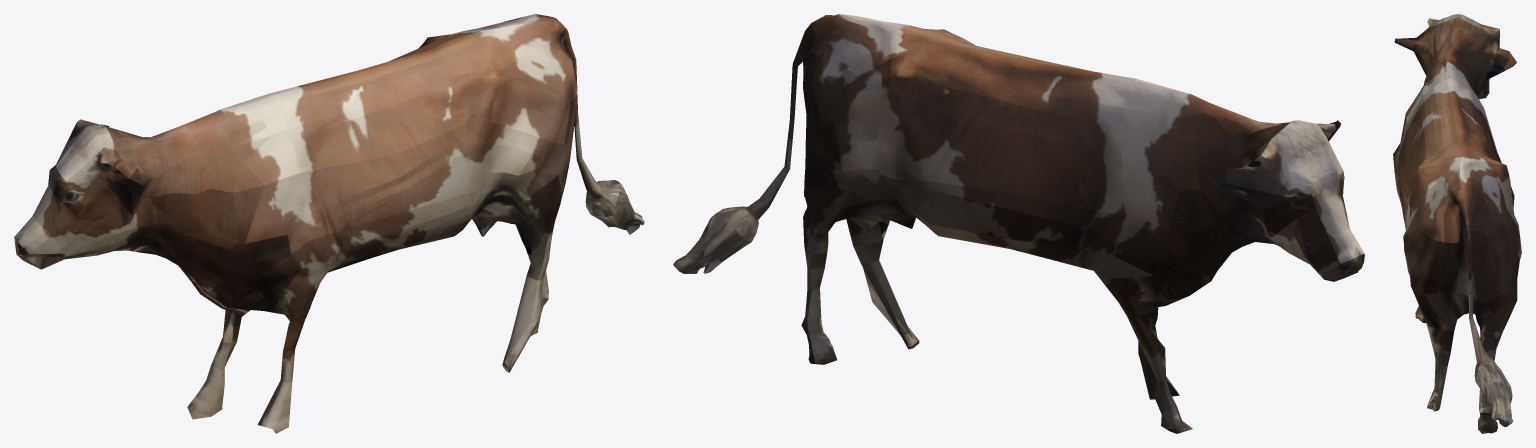
The model's file is Cow.fbx.
3 views of the same model, side by side, from view 1: azimuth 30°, elevation 25°; view 2: azimuth 150°, elevation 25°; view 3: azimuth 270°, elevation 25° (orthographic). The views are drawn at different scales.
Parts seen in each view (by area): view 1: Cow; view 2: Cow; view 3: Cow.
Part boxes in pixels (x1,y1,x2,y2): Cow: (14,14,644,433); Cow: (673,14,1364,433); Cow: (1393,14,1521,433).
Bounding box in the file's own units: 2.59 × 1.26 × 0.5865.
Materials: 1 (1 with a texture image).
